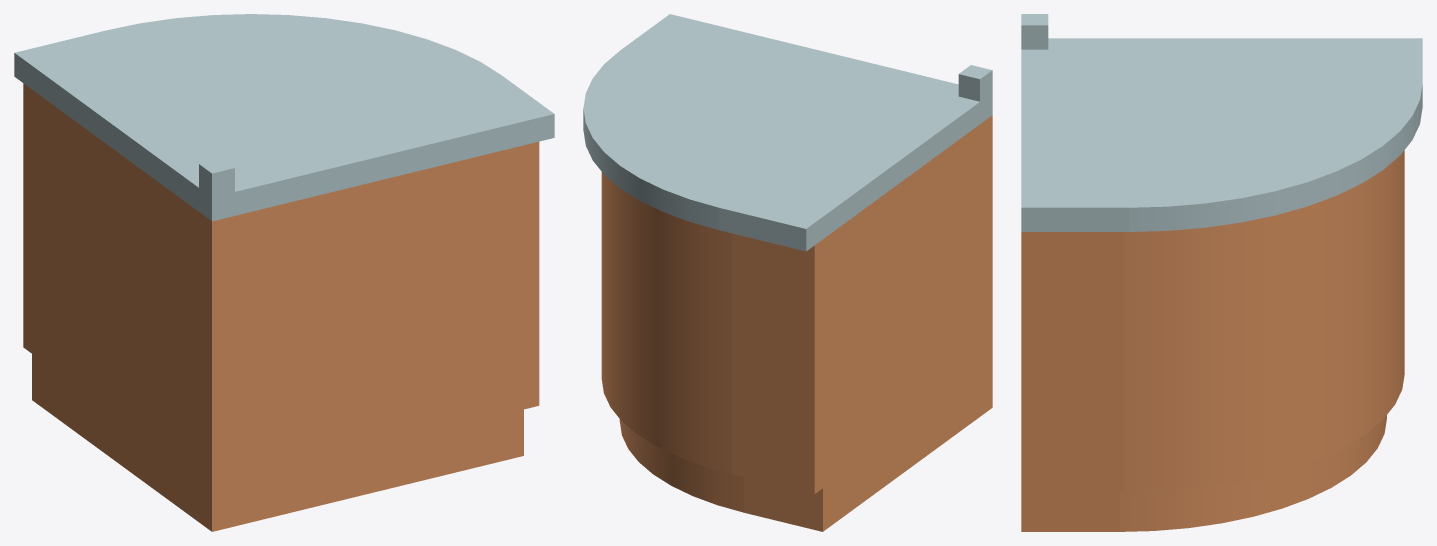
The model's file is kitchenCabinetCornerRound.fbx.
3 renders of one model, left to right at view 1: azimuth 30°, elevation 25°; view 2: azimuth 150°, elevation 25°; view 3: azimuth 270°, elevation 25°, orthographic. The views are drawn at different scales.
Visible parts, largest first — view 1: kitchenCabinetCornerRound; view 2: kitchenCabinetCornerRound; view 3: kitchenCabinetCornerRound.
Part boxes in pixels (box(x1,y1,x2,y2)): kitchenCabinetCornerRound: box(14, 14, 554, 531); kitchenCabinetCornerRound: box(583, 14, 992, 531); kitchenCabinetCornerRound: box(1021, 14, 1422, 531).
Bounding box in the file's own units: 4.5 × 4.5 × 4.5.
